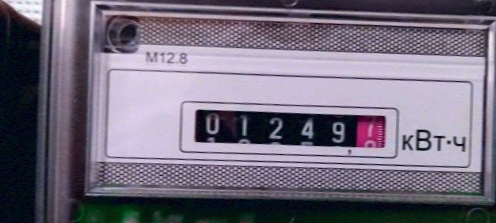0: (202, 108, 220, 135)
1: (234, 110, 249, 136)
2: (264, 114, 283, 141)
4: (297, 113, 314, 139)
7: (361, 111, 378, 138)
9: (326, 117, 345, 144)
screen: (174, 87, 402, 171)
